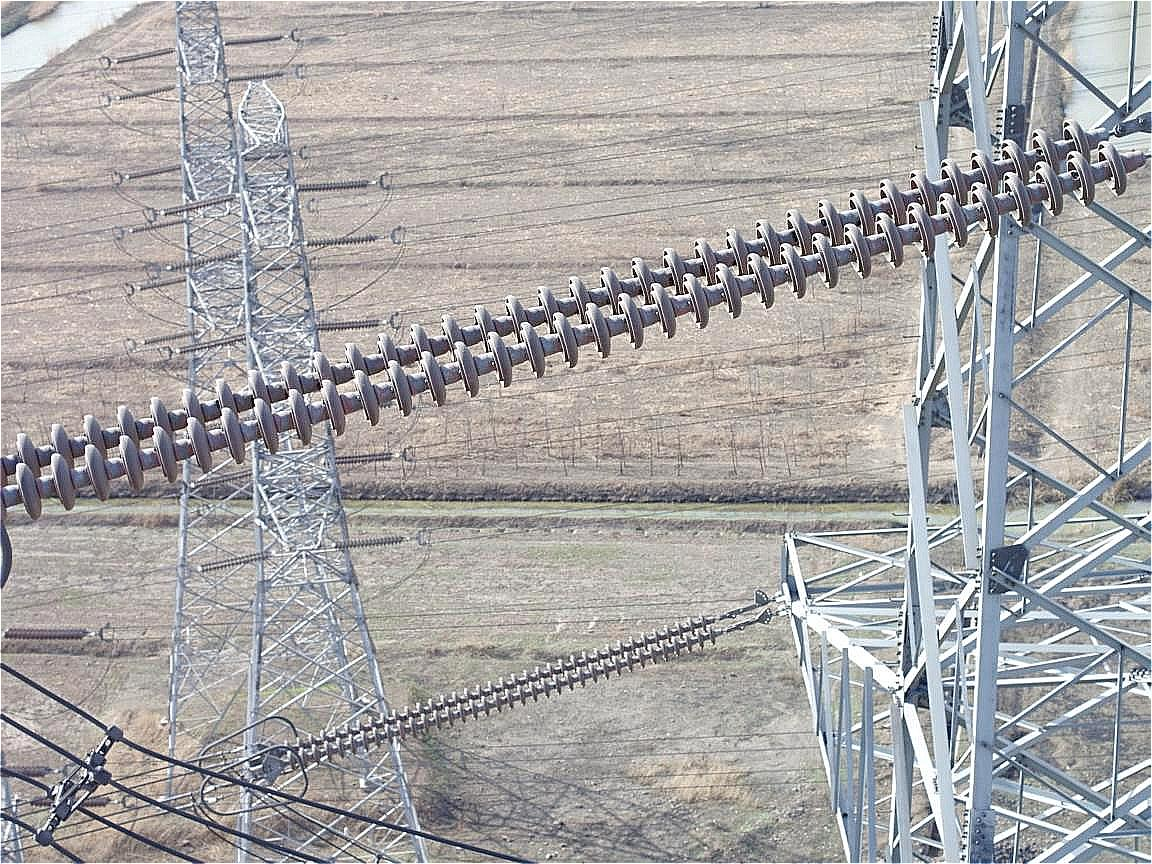insultor1: (11, 105, 1152, 533), (272, 614, 732, 774)
